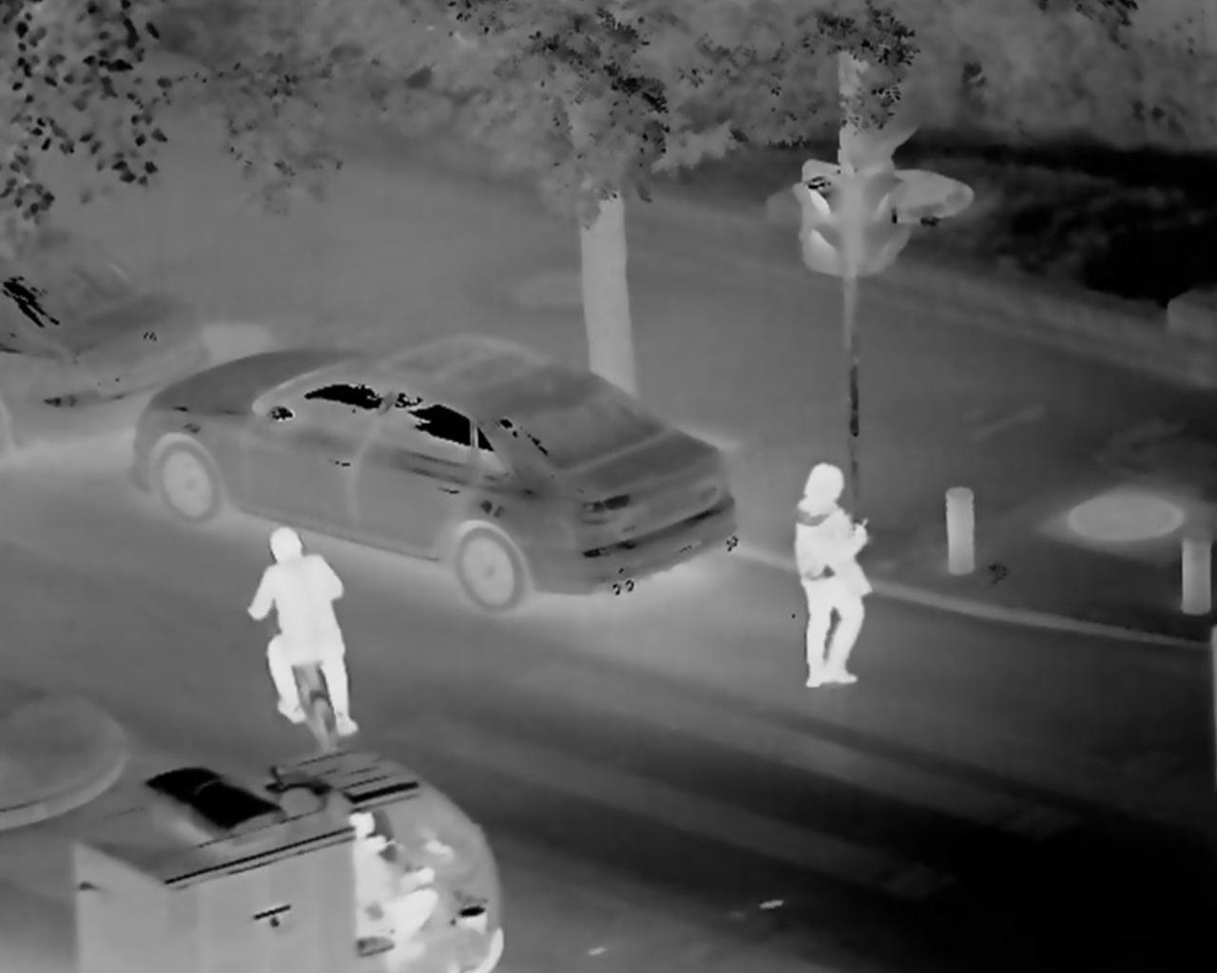person: (785, 456, 889, 694), (249, 532, 360, 751), (347, 811, 442, 965)
